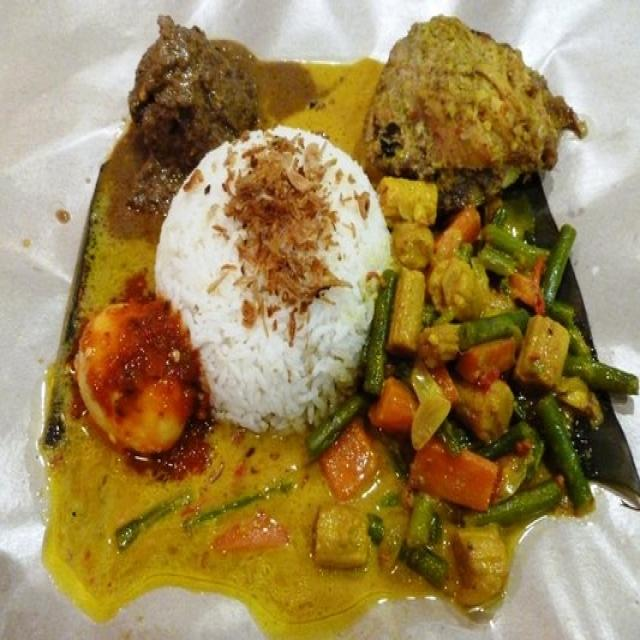米饭主食: (43, 17, 622, 628)
